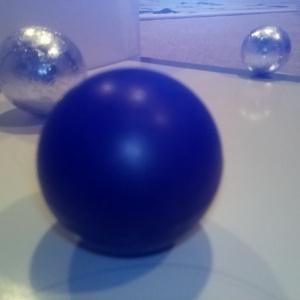alive_ball: (1, 25, 86, 116), (240, 25, 291, 76)
dead_ball: (38, 69, 220, 254)
